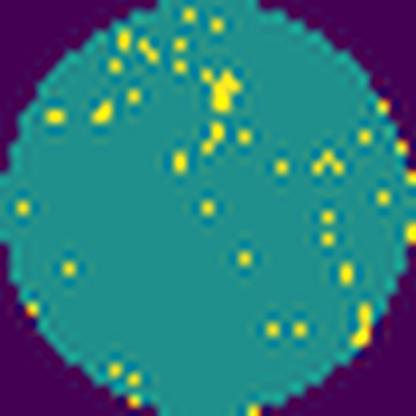Loc: (206, 62, 241, 110)
